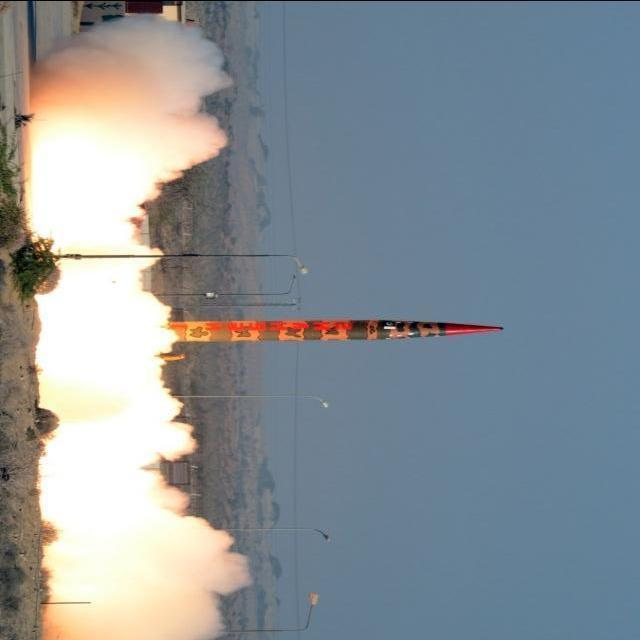missile: (149, 312, 506, 349)
